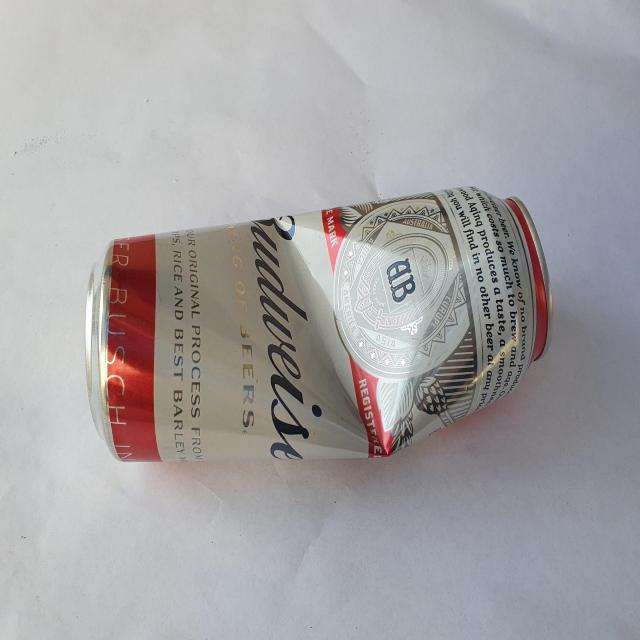can: (85, 186, 553, 461)
